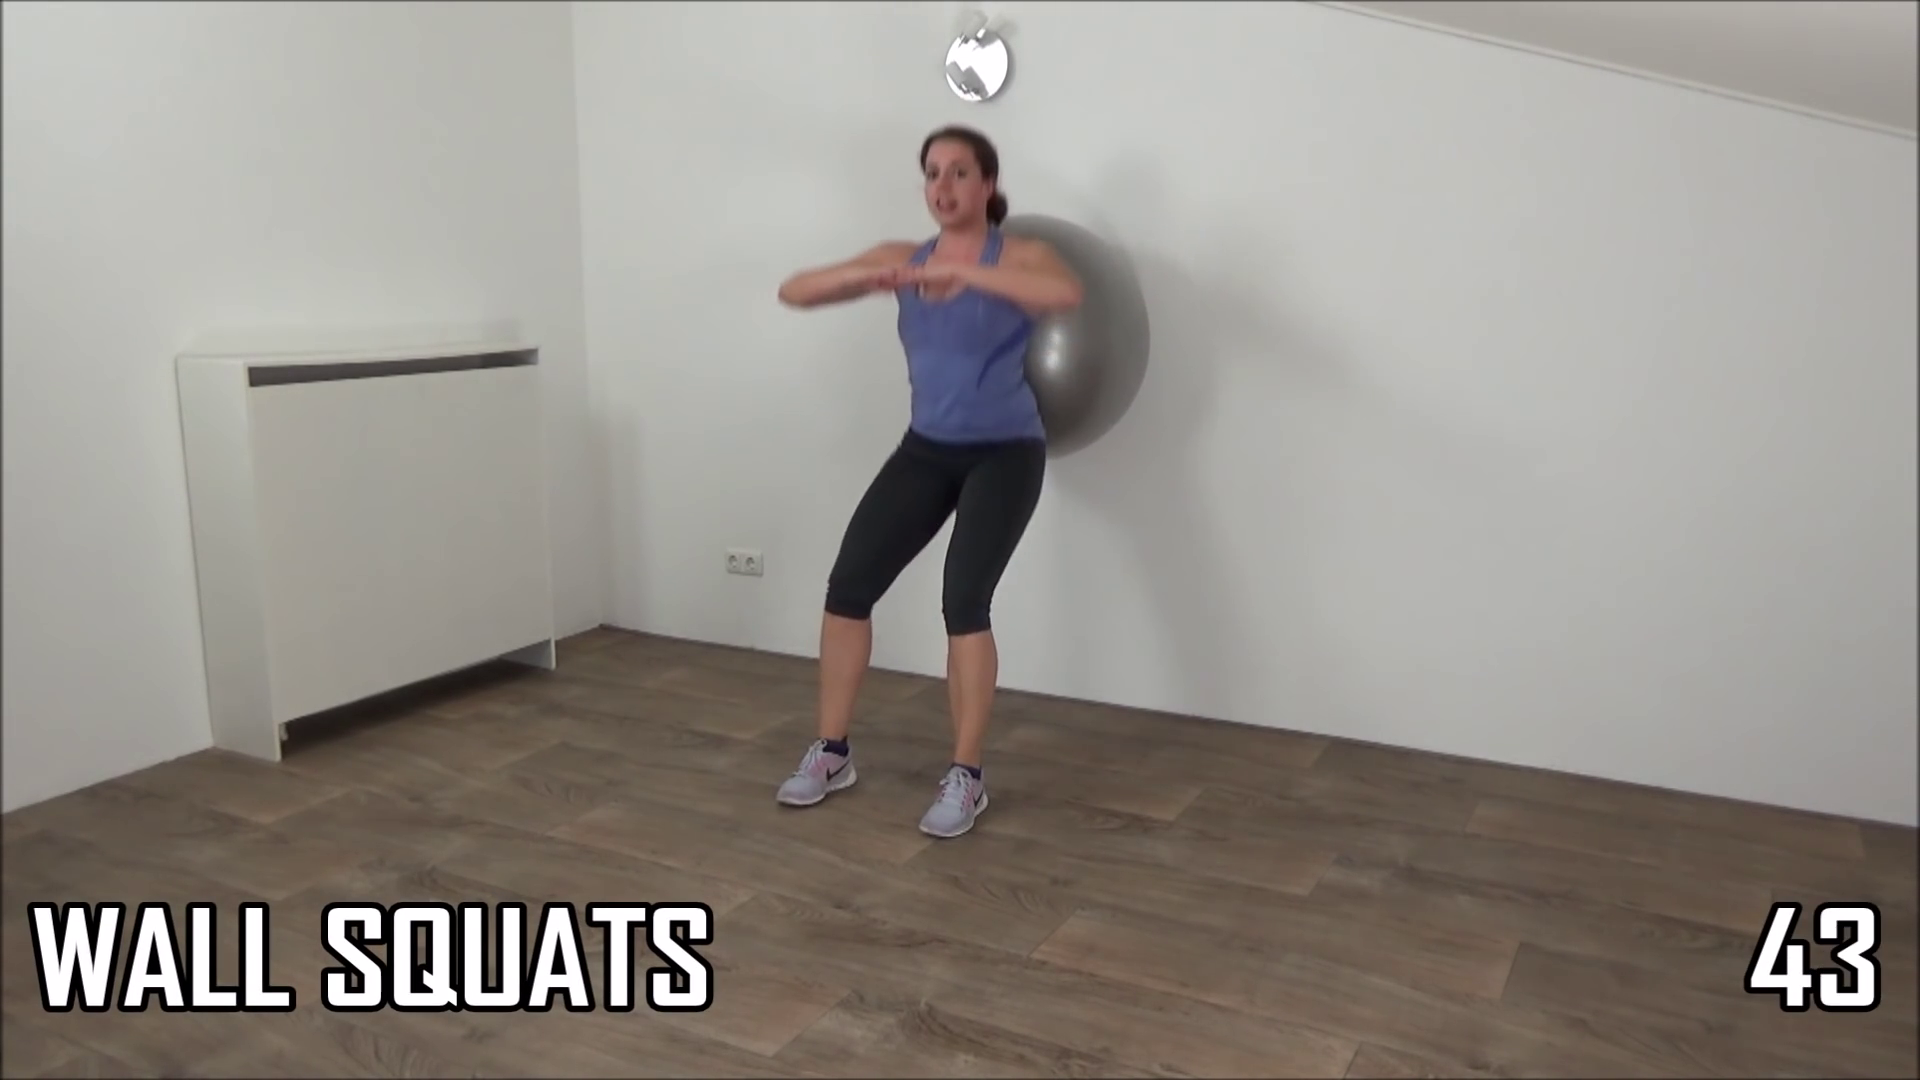yogaball: (953, 204, 1184, 473)
